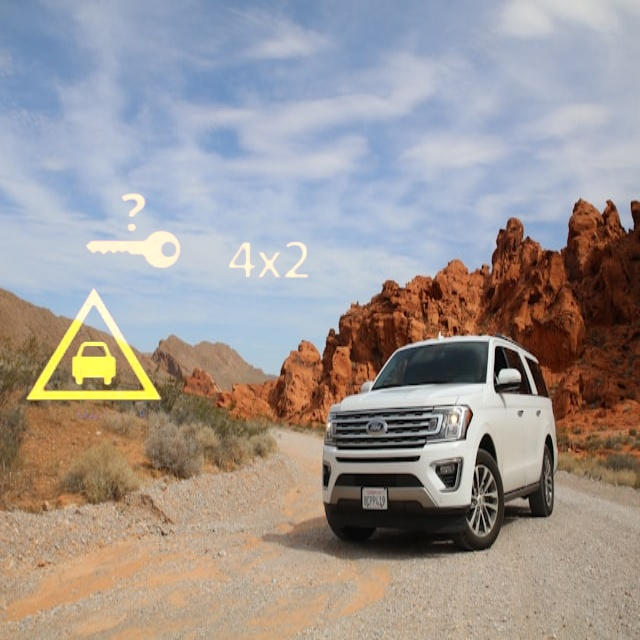symbol: (11, 264, 176, 429), (193, 186, 344, 337), (58, 157, 207, 306)
